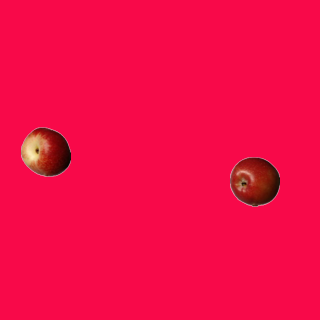Apple Braeburn: (229, 156, 279, 206)
Nectarine: (20, 126, 70, 176)
